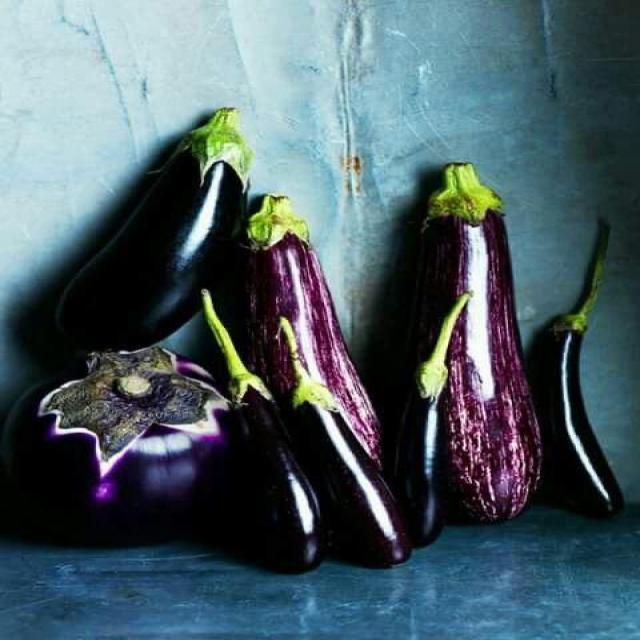eggplant: (54, 107, 252, 356), (422, 160, 541, 525), (200, 288, 329, 574), (280, 316, 412, 566)
